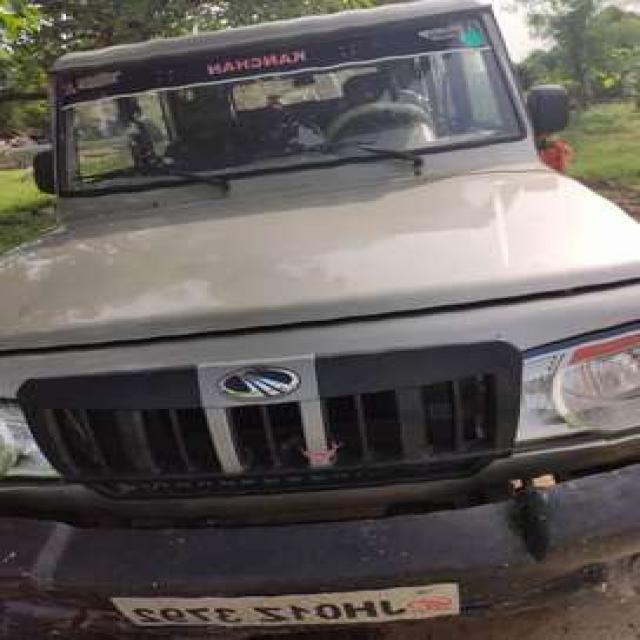license_plate: (103, 577, 475, 633)
